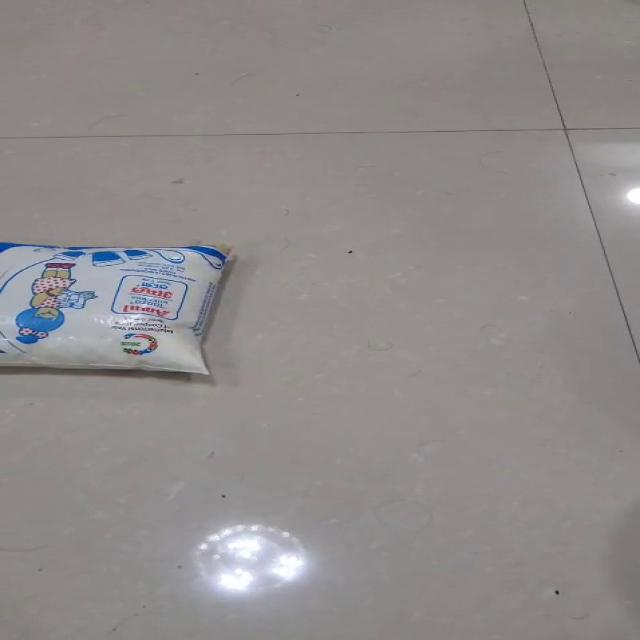plastic: (0, 240, 232, 376)
